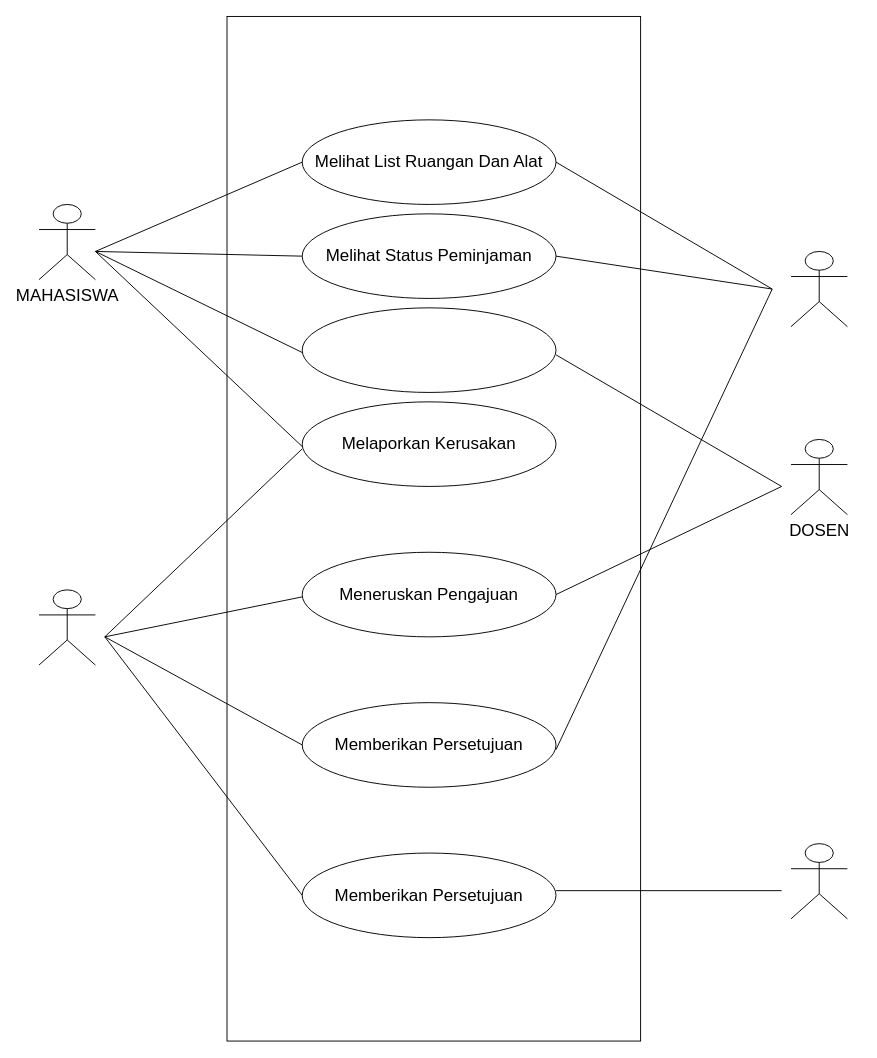
Some shapes in this 877 by 1058 pixel diagram are drawn without their labels. The shapes that lost their labels are listed below. From the top down, each one's centre as x and y in pixels, then its label:
At pixel 818 289: "WEBSITE".
At pixel 428 349: "Mengajukan Peminjaman".
At pixel 66 627: "LABORAN".
At pixel 818 881: "SUPPLIER".
